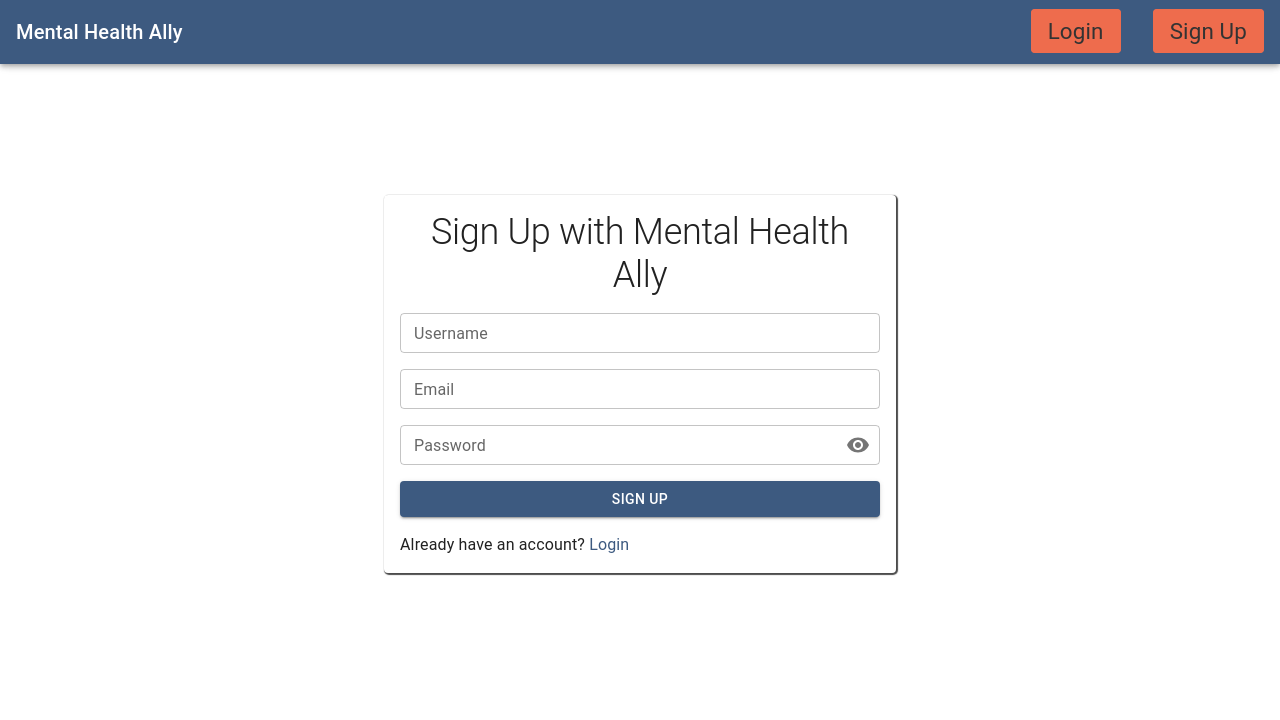
Scenario: Sign Up Page › username, email and password fields when empty display validation error
This screenshot has width=1280, height=720.
Step 1. Clear the field labelled "Username" → (640, 333), box [400, 313, 880, 353]
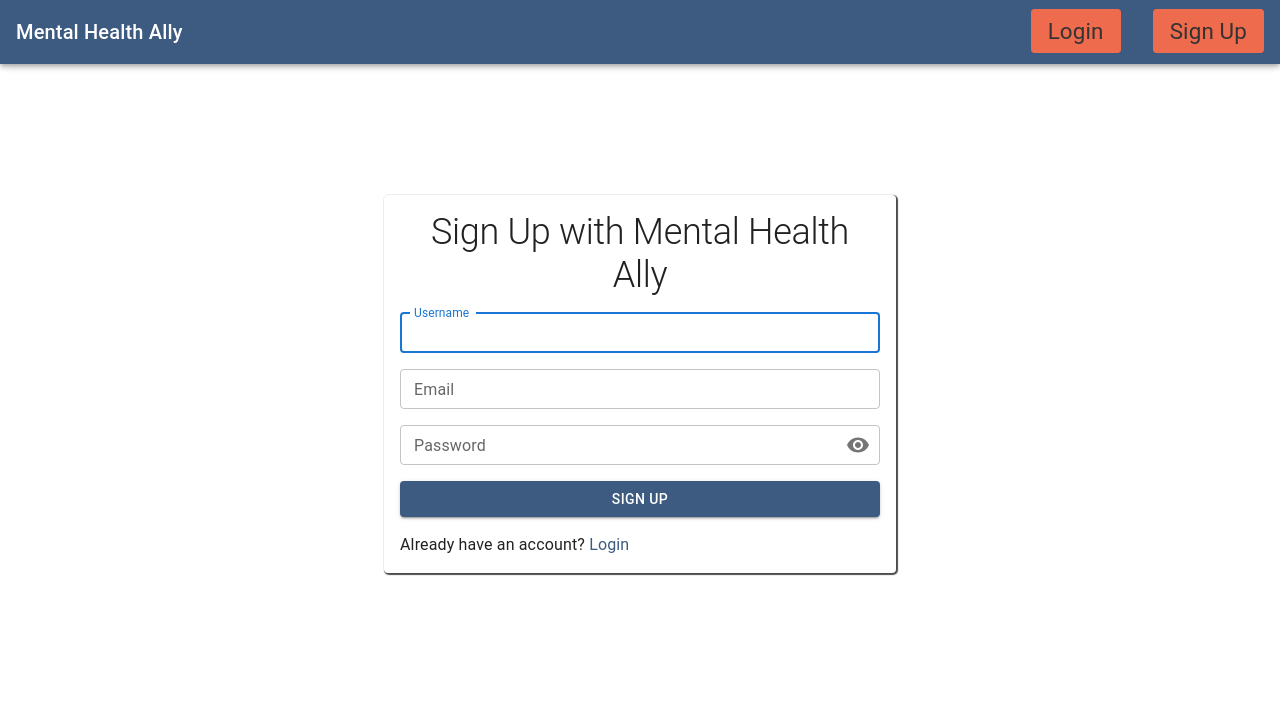
Step 2. Clear the field labelled "Email" → (640, 389), box [400, 369, 880, 409]
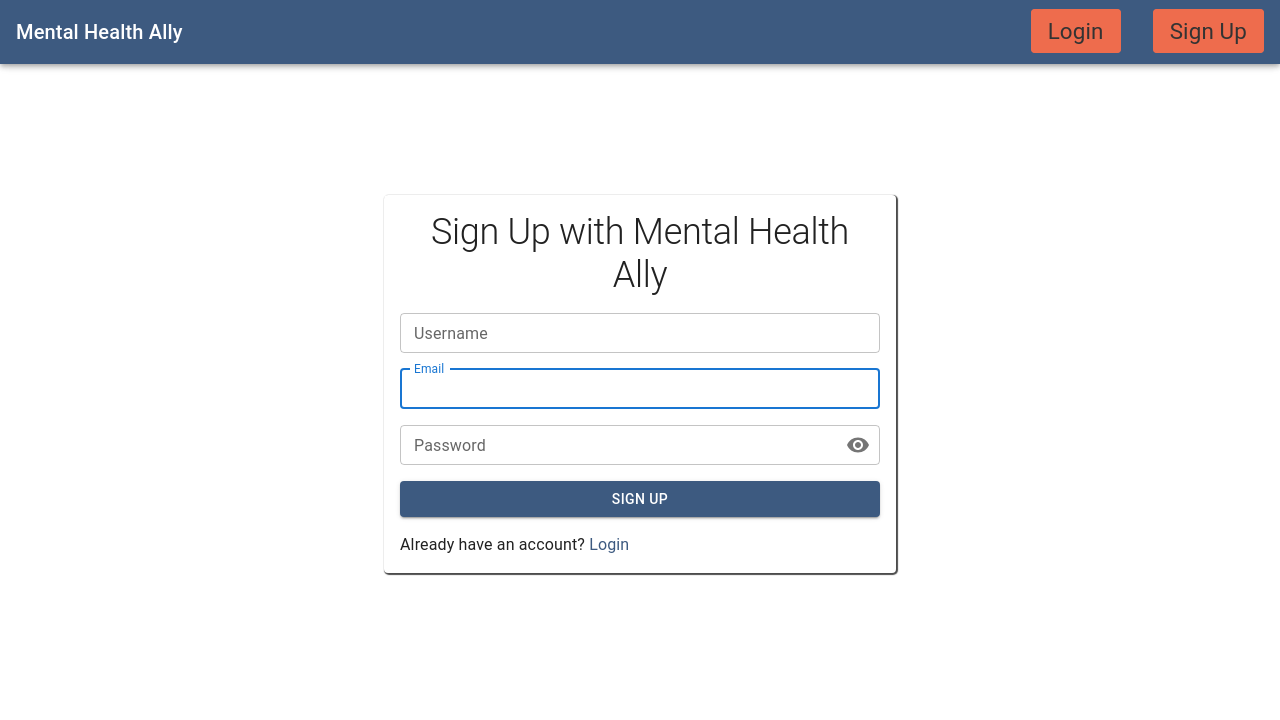
Step 3. Clear the password field labelled "Password" → (615, 445), box [400, 425, 830, 465]
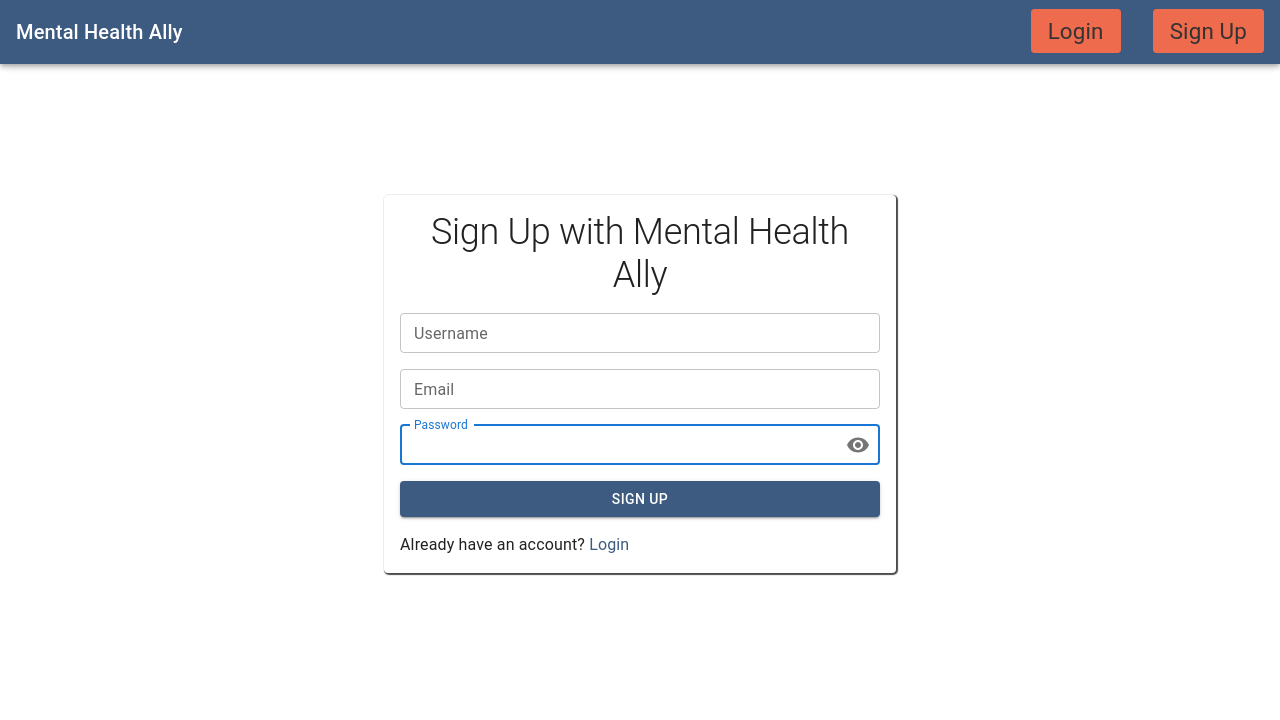
Step 4. Click the button "Sign up" → (640, 499), box [400, 481, 880, 517]
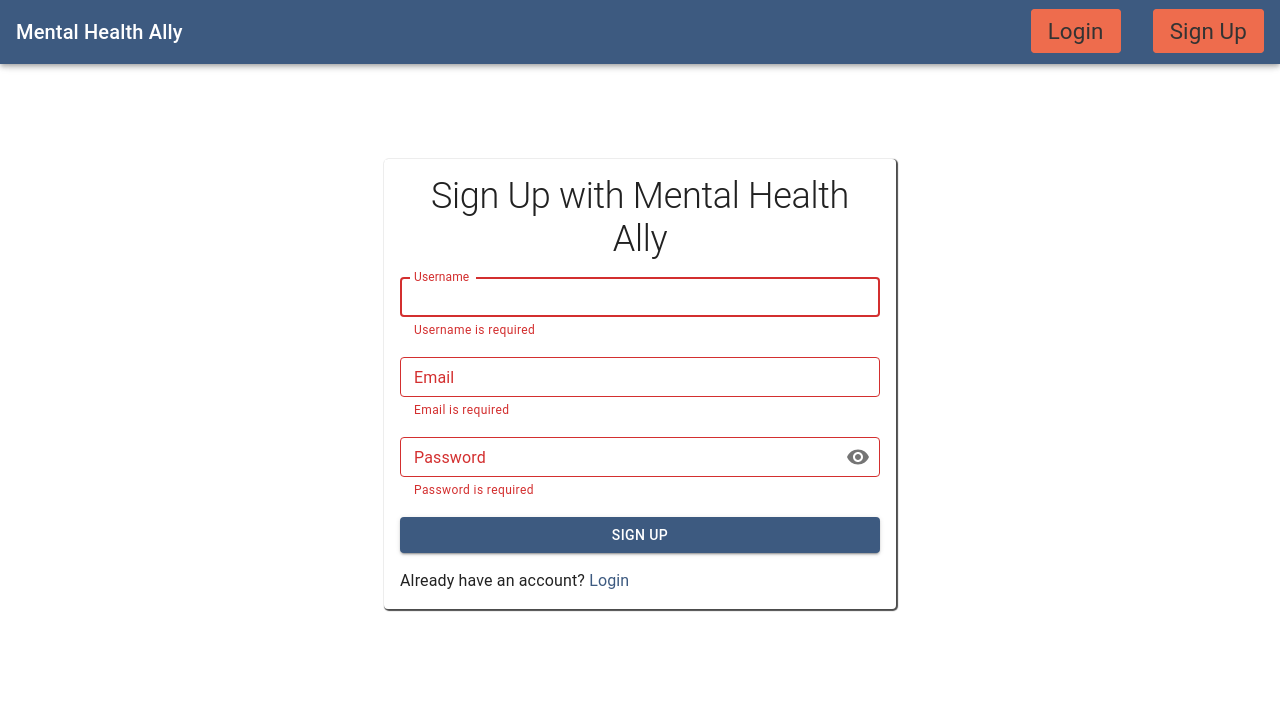
Now the text "Username is required" is shown, box [414, 323, 535, 337]
Now the text "Email is required" is shown, box [414, 403, 509, 417]
Now the text "Password is required" is shown, box [414, 483, 534, 497]
